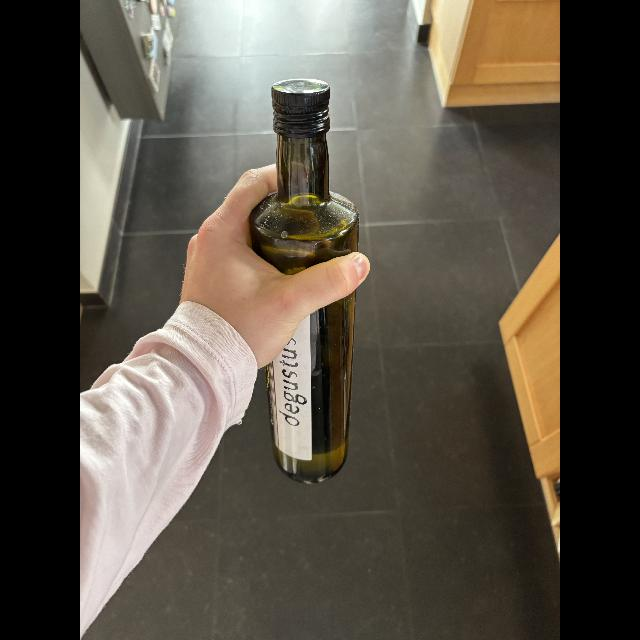Glass: (248, 80, 362, 482)
